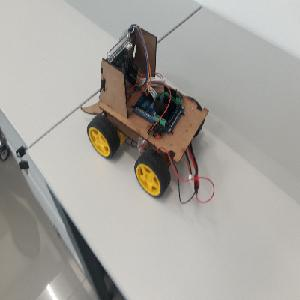Robot: (75, 23, 209, 199)
